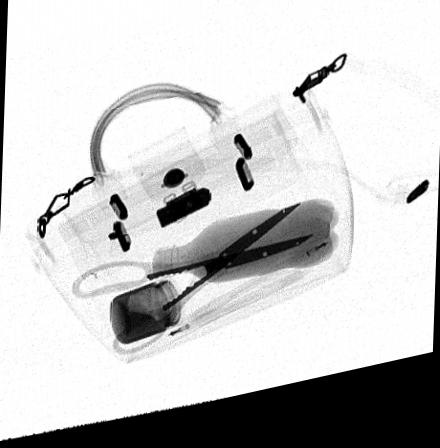Scissors: (66, 213, 318, 360)
